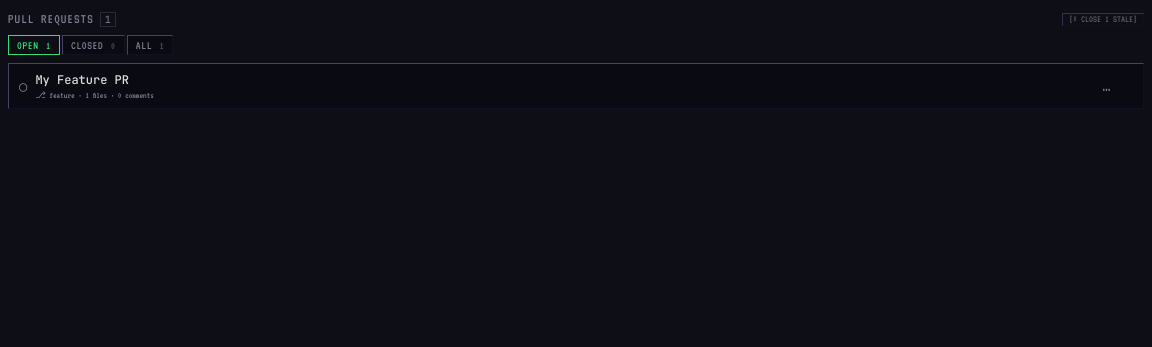
PRList component › clicking a PR opens PRDetail view
Click the text "My Feature PR".
click(82, 80)  # box [35,72,129,88]
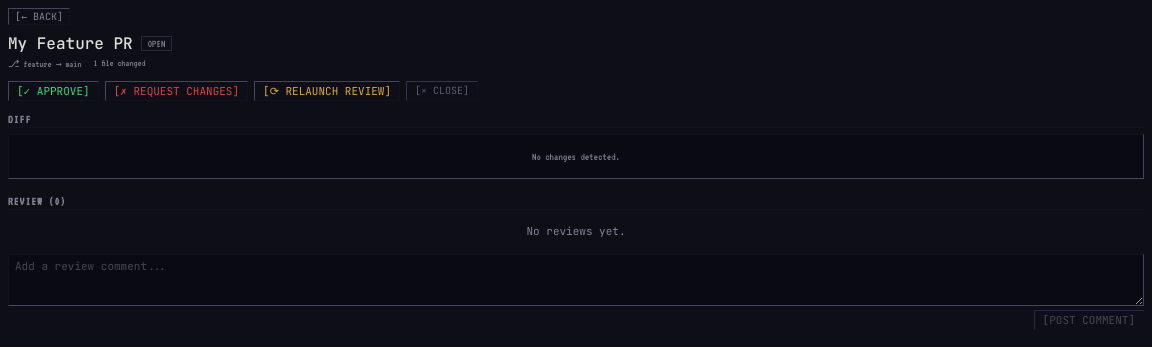
Now the button "[← BACK]" is shown, box [8,8,70,25]
